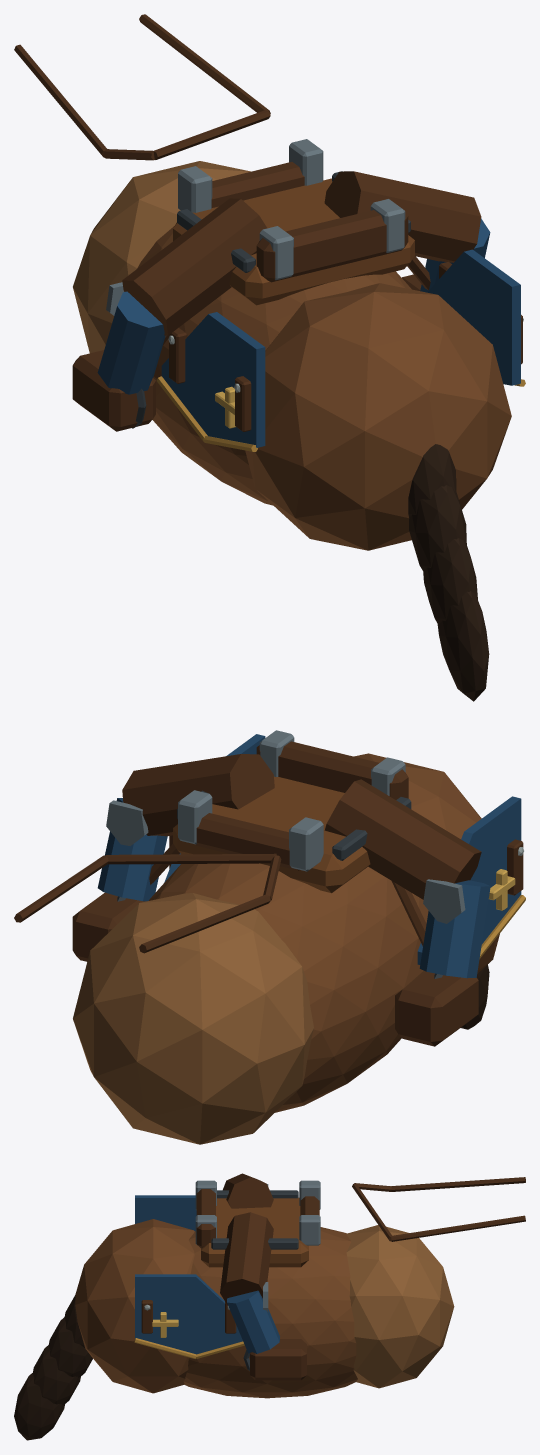
Rendered from Body.glb.
3 views of the same model, one above another, from view 1: azimuth 30°, elevation 25°; view 2: azimuth 150°, elevation 25°; view 3: azimuth 270°, elevation 25° (orthographic). The views are drawn at different scales.
Parts seen in each view (by area): view 1: Sculpture; view 2: Sculpture; view 3: Sculpture.
Boxes of the visible parts, box(x1,y1,x2,y2) form: Sculpture: box(14, 14, 525, 701); Sculpture: box(14, 730, 525, 1144); Sculpture: box(14, 1173, 525, 1440).
Bounding box in the file's own units: 1.33 × 1.33 × 2.52.
